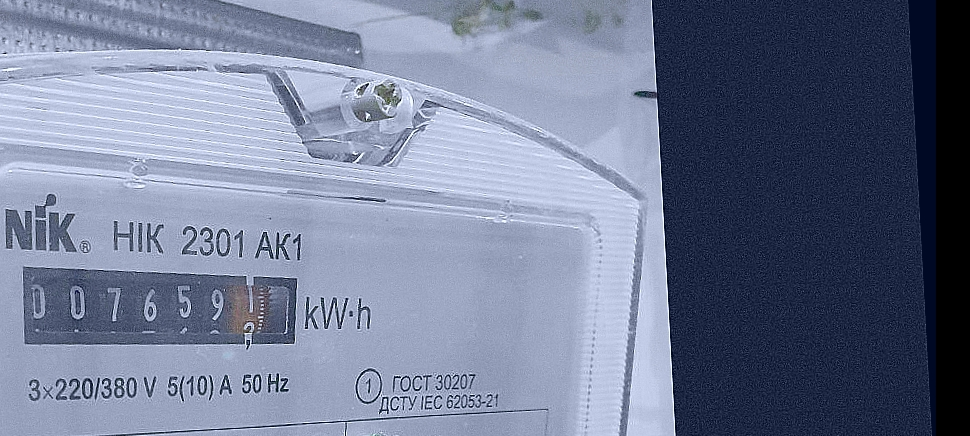0: (63, 280, 90, 322), (24, 279, 50, 321)
1: (241, 283, 260, 316)
5: (173, 281, 195, 320)
6: (138, 284, 161, 324)
7: (103, 283, 124, 324)
9: (207, 285, 226, 323)
screen: (10, 242, 309, 377)
